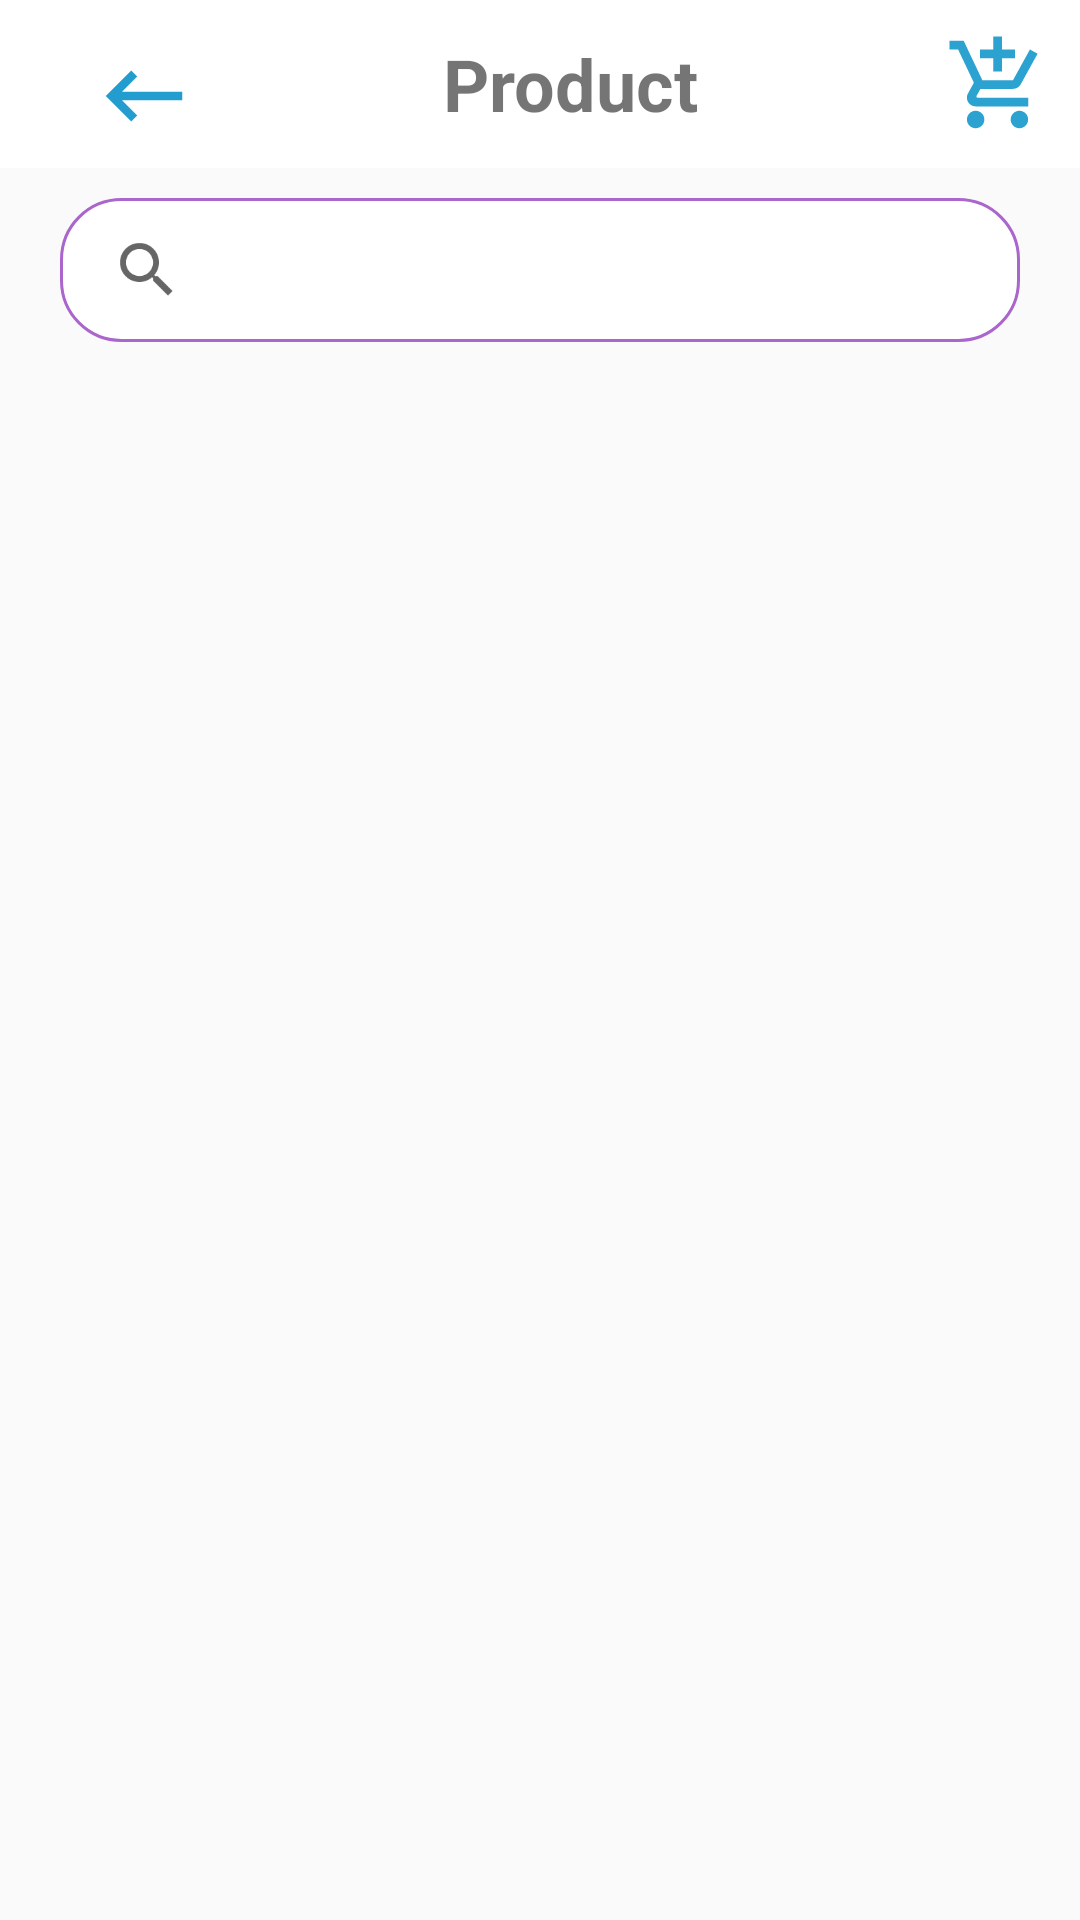

Locate icon controls on the screen. Image size 1080*1920, boxes as (x1, y1, x2, y2).
back: (106, 70, 183, 122)
